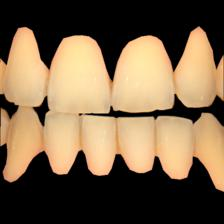cavity: (171, 71, 183, 94), (44, 69, 53, 95), (108, 78, 117, 96), (114, 136, 122, 155), (78, 126, 84, 149), (191, 145, 201, 157), (40, 133, 47, 150)
tooth: (49, 31, 112, 115), (112, 32, 171, 114), (174, 25, 217, 109), (6, 25, 49, 107), (2, 106, 44, 184), (44, 110, 85, 176), (82, 113, 122, 176), (159, 114, 196, 181), (116, 115, 156, 174), (195, 112, 224, 191)
